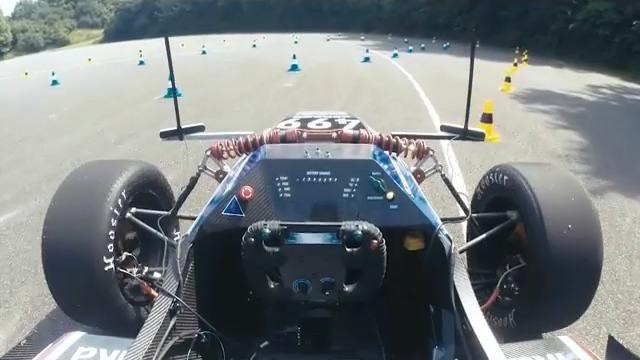blue_cone: (163, 73, 183, 100), (361, 48, 373, 64), (50, 72, 61, 87)
yellow_cone: (472, 98, 501, 143), (499, 71, 515, 92)
